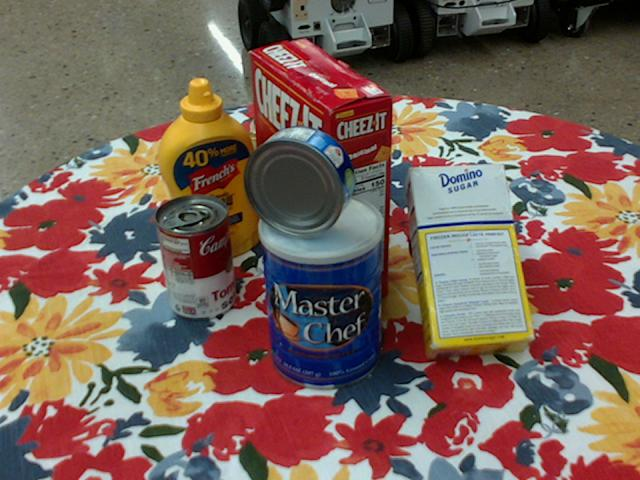cracker_box: (251, 39, 393, 312)
gelatin_box: (309, 127, 385, 209)
large_marker: (249, 80, 293, 134)
master_chef_can: (258, 193, 382, 392)
mug: (406, 166, 506, 274)
mustard_bottle: (157, 79, 259, 262)
potted_meat_can: (221, 123, 315, 221)
sugar_box: (403, 163, 536, 362)
tomato_soup_can: (154, 194, 235, 320)
tuna_fish_can: (243, 126, 356, 238)
